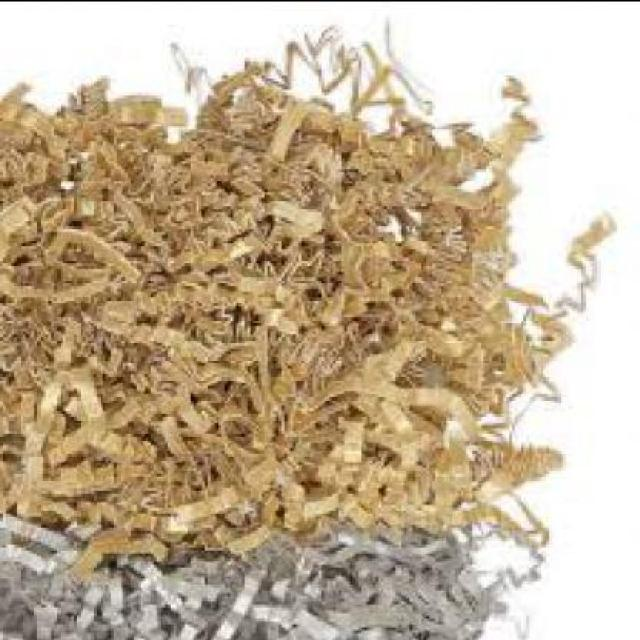PAPER: (3, 14, 620, 637), (3, 26, 609, 554), (3, 528, 529, 638)
